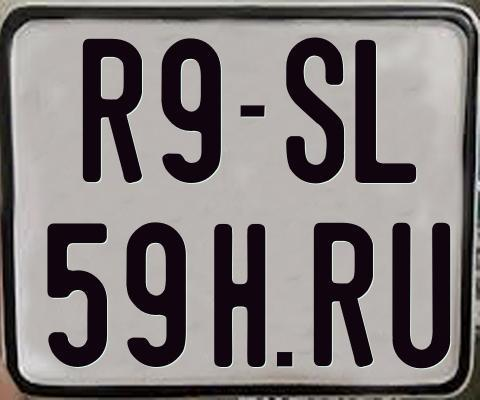5: (47, 222, 107, 369)
9: (159, 35, 223, 181), (123, 222, 183, 368)
H: (211, 223, 268, 370)
L: (352, 39, 416, 188)
R: (82, 39, 146, 184), (312, 222, 372, 366)
S: (284, 35, 343, 183)
U: (391, 221, 453, 369)
